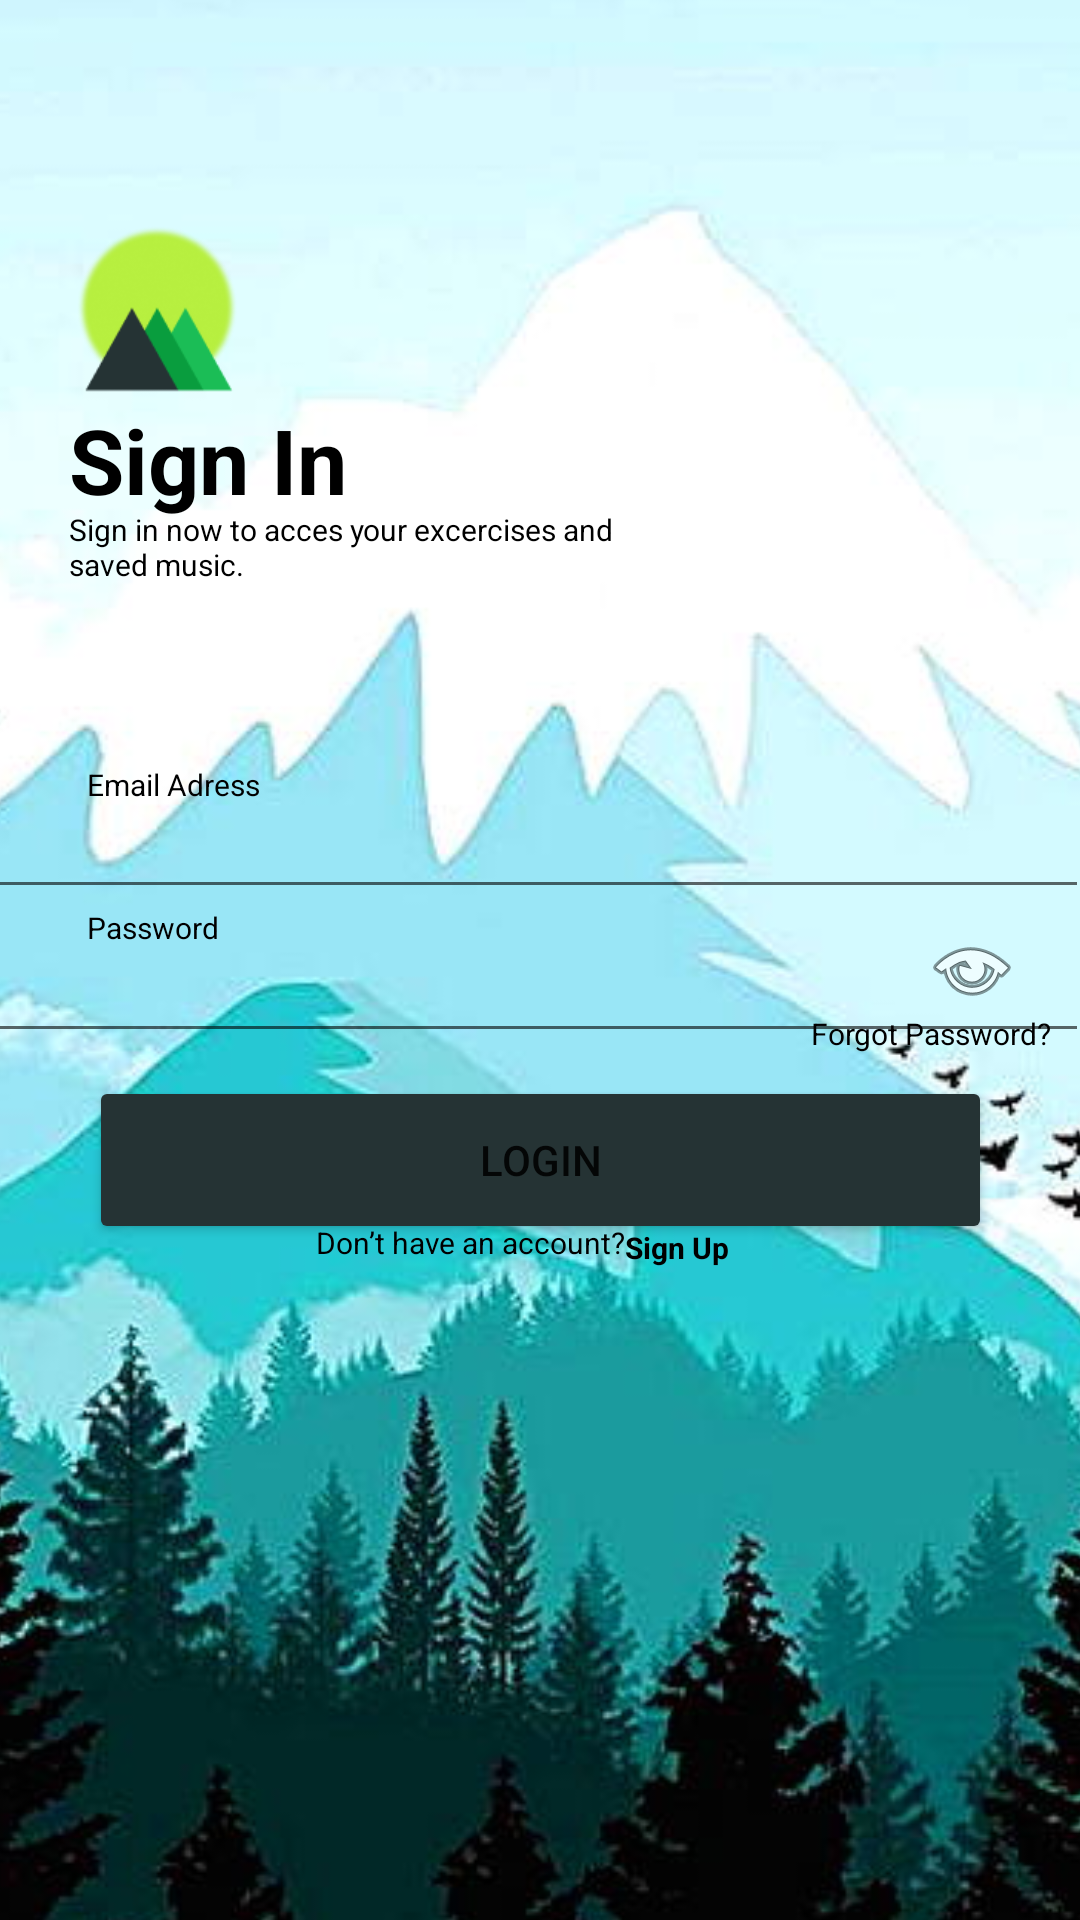

Point at icon controls on the screen. Image size 1080×1920, points as [x,y].
view: [972,971]
